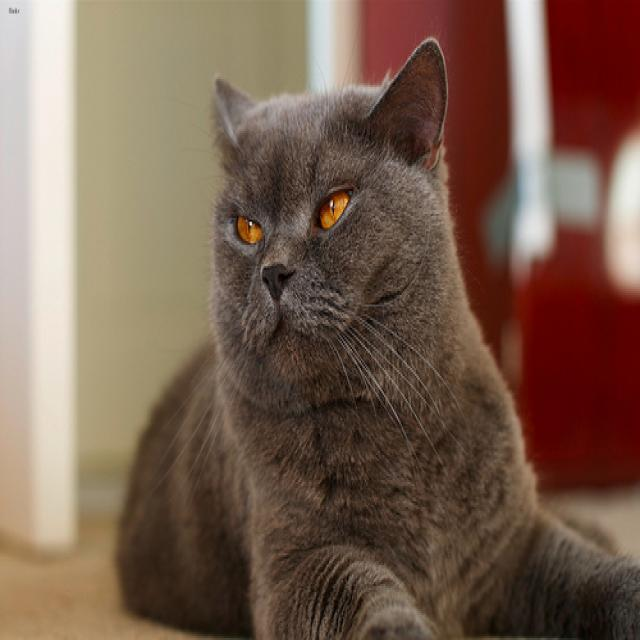British_Shorthair: (207, 33, 453, 401)
